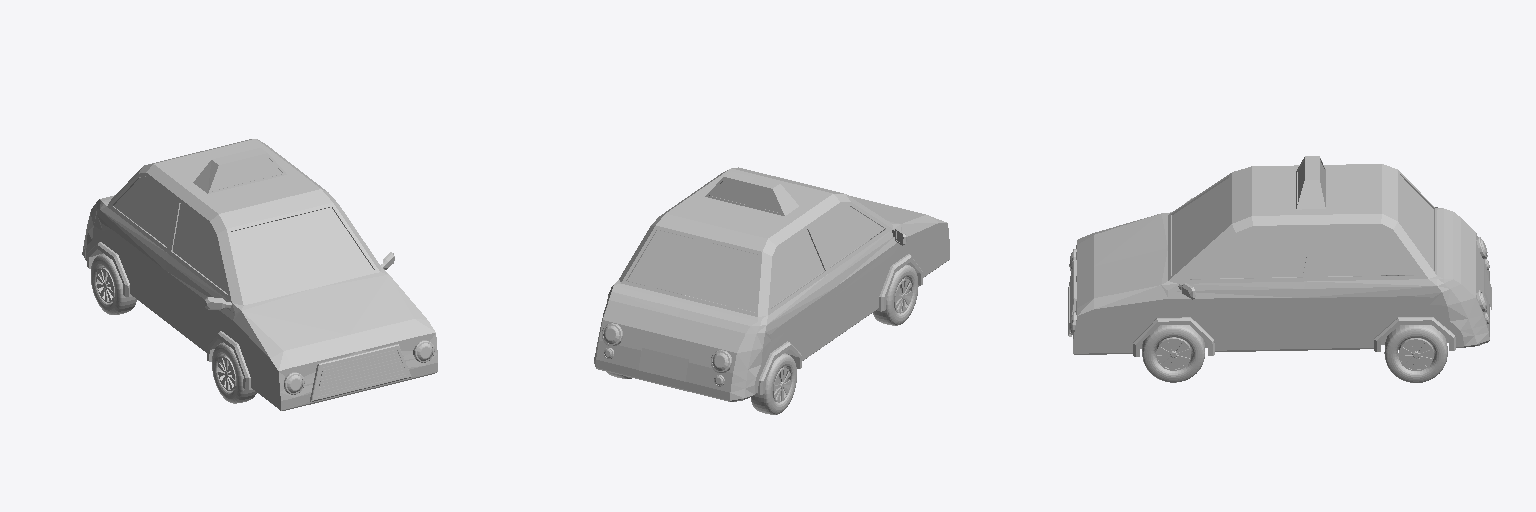
Rendered from taxi low poly 1.obj.
The picture shows the model from 3 angles: view 1: azimuth 30°, elevation 25°; view 2: azimuth 150°, elevation 25°; view 3: azimuth 270°, elevation 25°; orthographic projection.
Visible parts, largest first — view 1: Cube, Cylinder.001, Cylinder; view 2: Cube, Cylinder.001, Cylinder; view 3: Cube, Cylinder.003, Cylinder.002.
Part boxes in pixels (left/top/right/bottom): Cube: left=82, top=139, right=437, bottom=410; Cylinder.001: left=91, top=253, right=136, bottom=314; Cylinder: left=212, top=342, right=256, bottom=403; Cube: left=594, top=167, right=949, bottom=401; Cylinder.001: left=751, top=353, right=796, bottom=414; Cylinder: left=873, top=265, right=918, bottom=325; Cube: left=1068, top=156, right=1491, bottom=356; Cylinder.003: left=1384, top=325, right=1447, bottom=382; Cylinder.002: left=1142, top=325, right=1204, bottom=382.
Size of the model in its own units: 5.59 by 4.96 by 10.81.